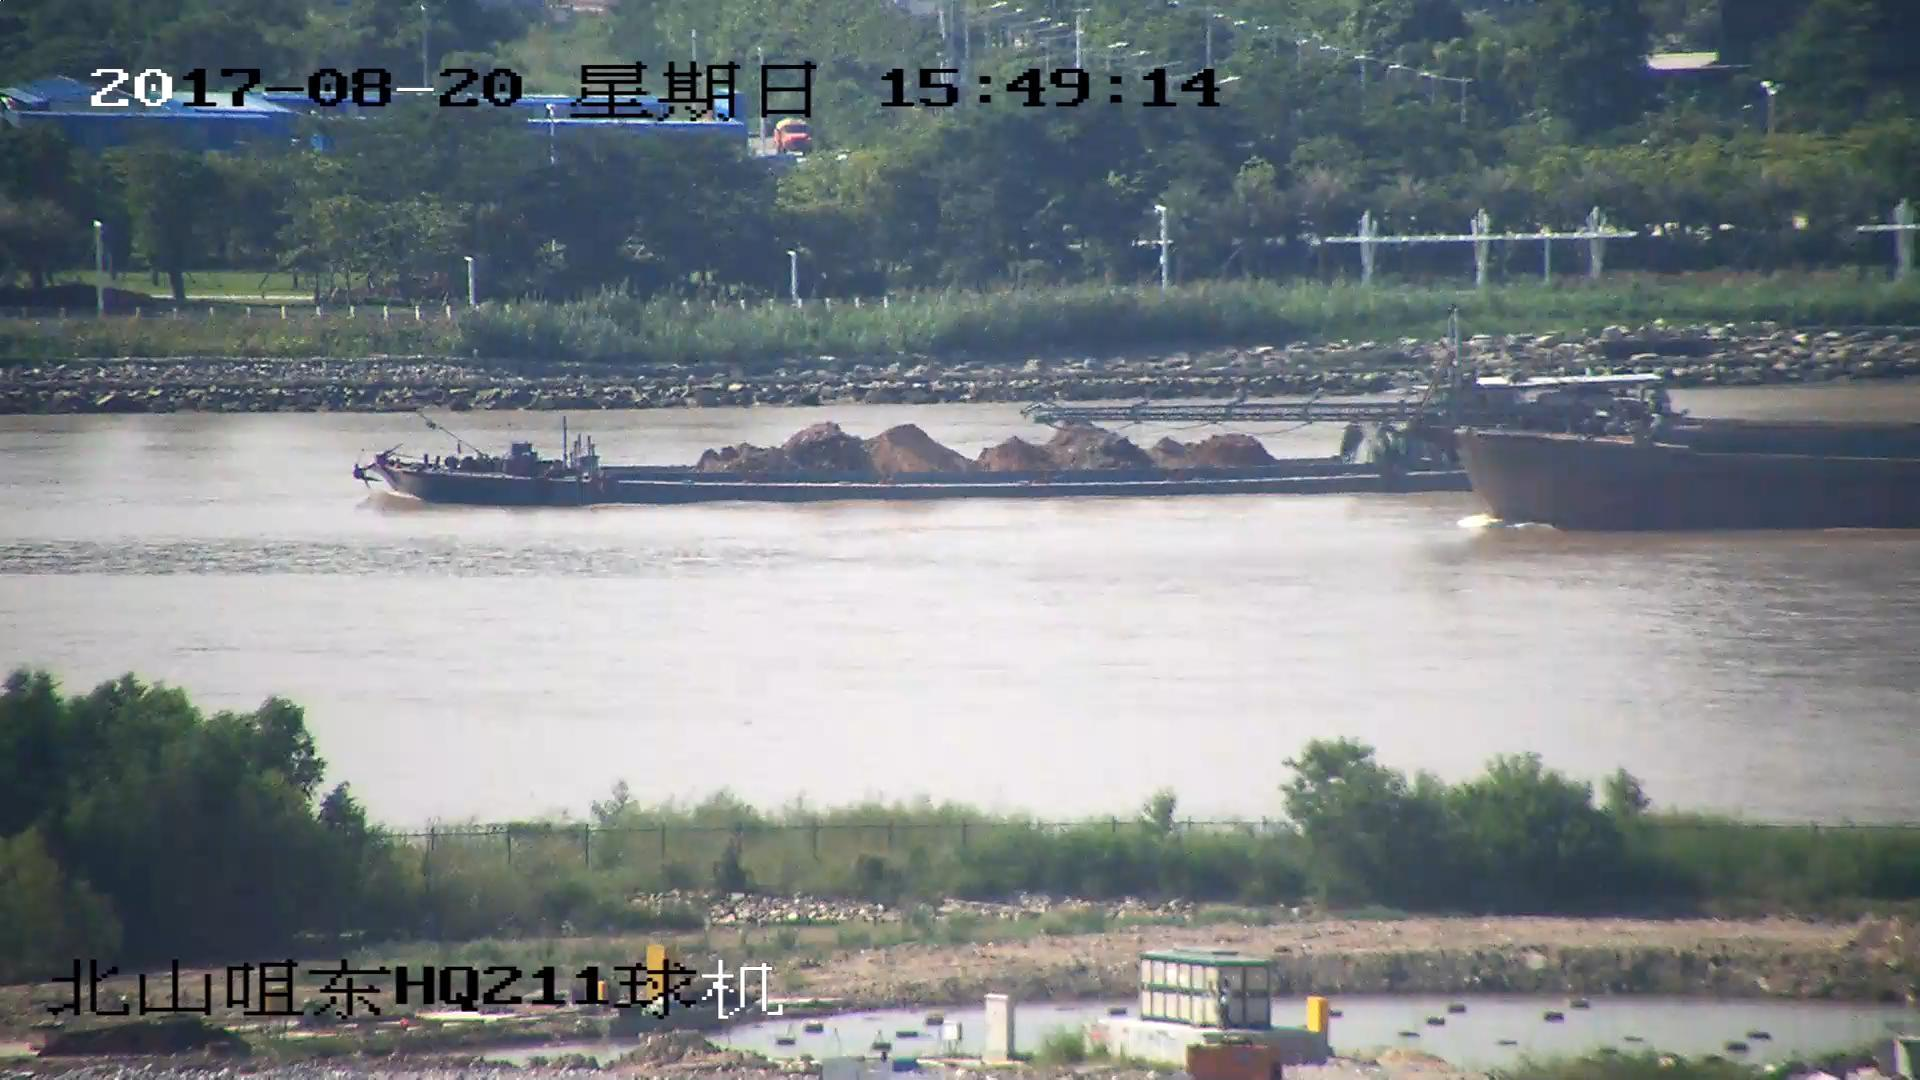Ship: (360, 378, 1669, 509), (1048, 340, 1920, 534)
